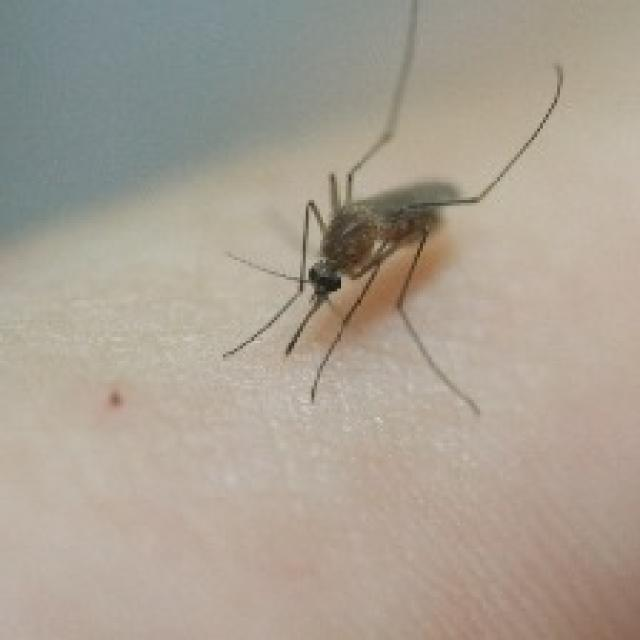culex: (217, 0, 562, 414)
